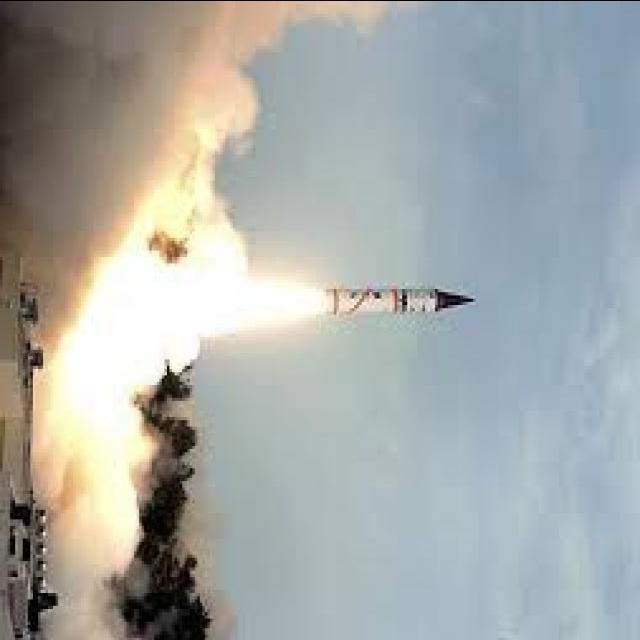Missile: (311, 281, 481, 321)
